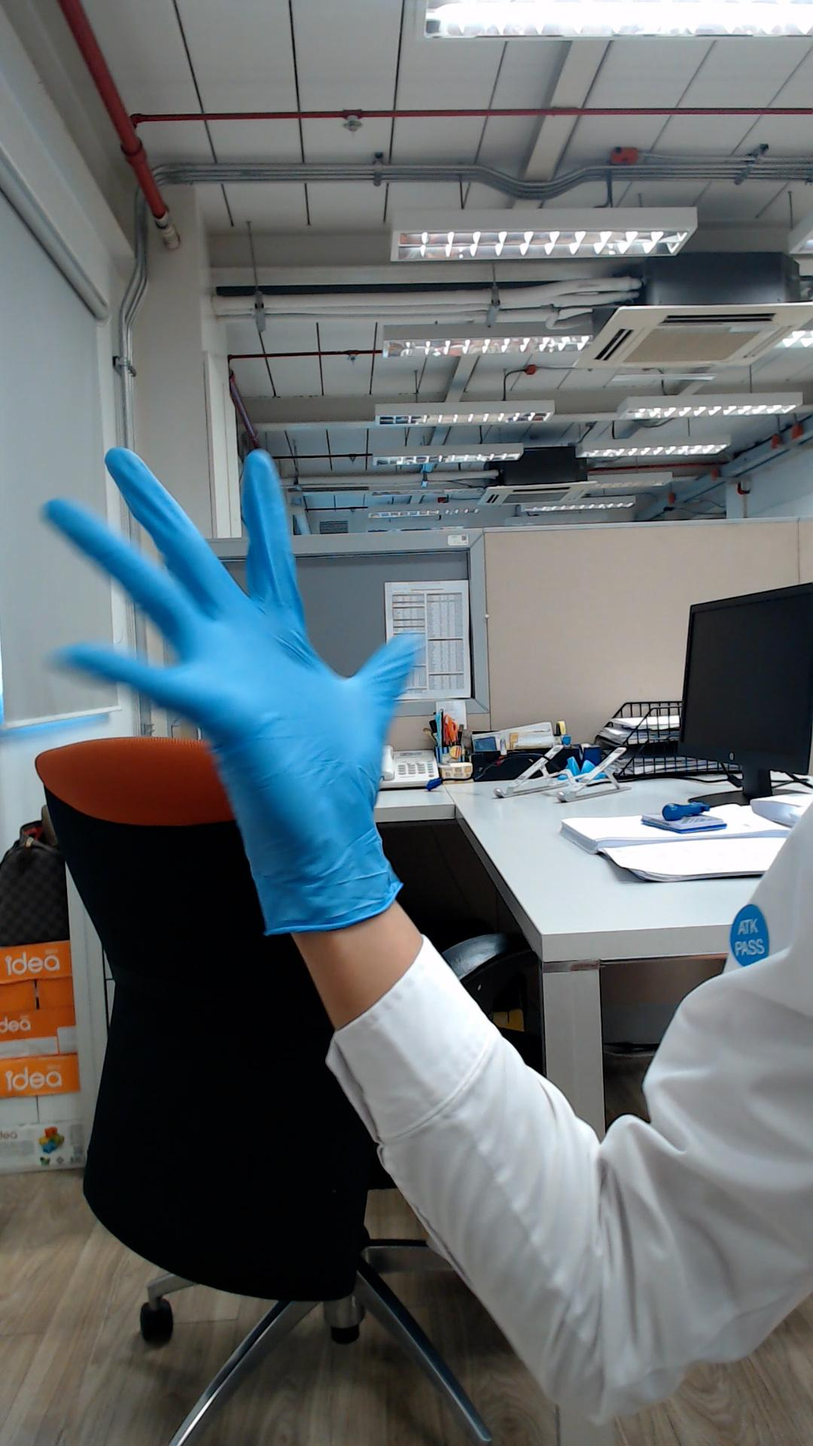gloves: (31, 410, 448, 830)
